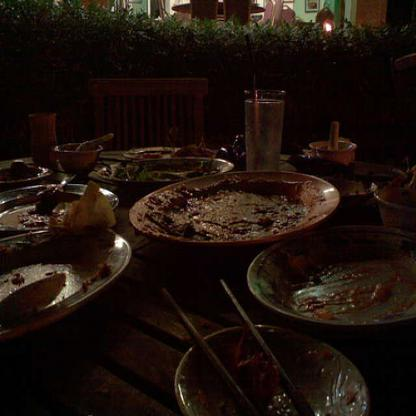chair: (86, 74, 209, 151)
diningtable: (0, 143, 415, 415)
